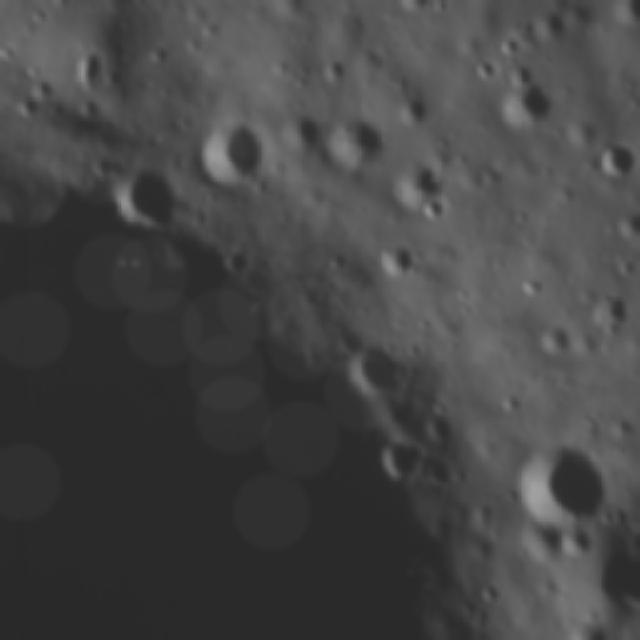crater: (523, 451, 619, 526), (203, 128, 277, 190), (117, 174, 178, 226), (323, 121, 388, 167), (344, 351, 422, 386), (376, 434, 426, 481), (604, 135, 640, 187), (514, 84, 558, 125), (586, 294, 634, 329), (399, 87, 446, 121), (382, 242, 418, 282), (397, 170, 438, 205), (552, 534, 597, 564), (391, 0, 446, 23), (0, 0, 12, 43)
